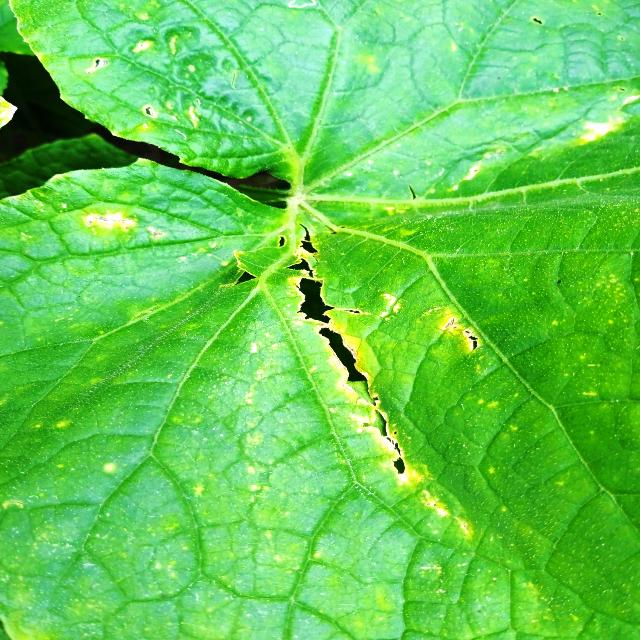Anthracnose: (272, 215, 421, 485)
